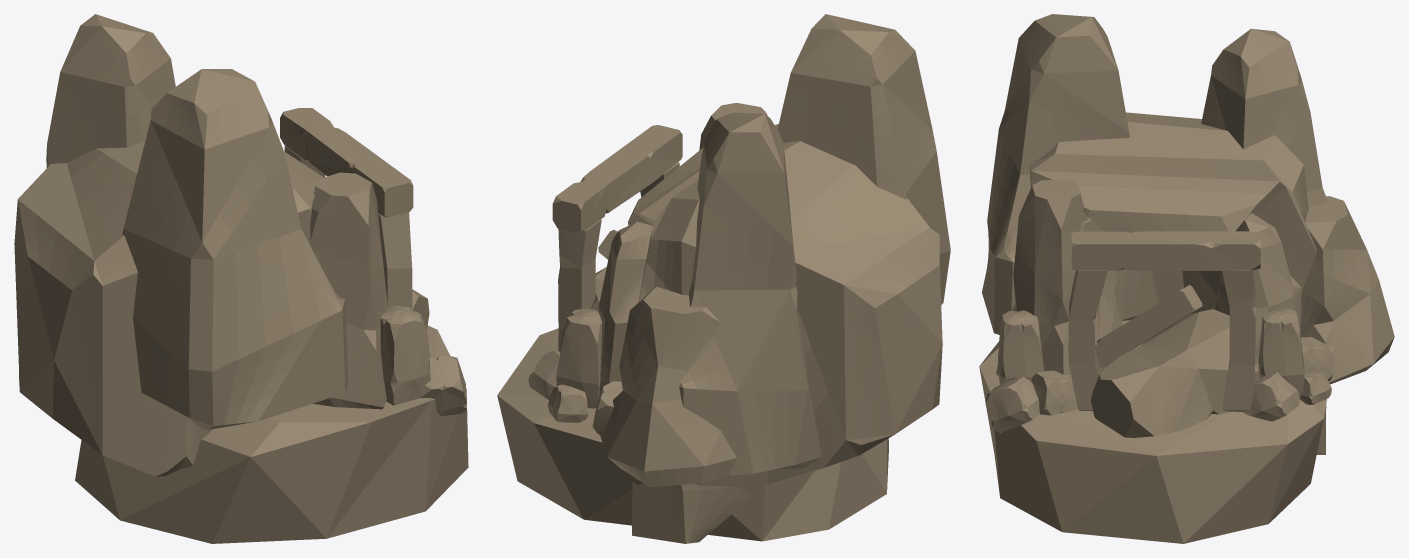
The model's file is stonemine2.fbx.
3 renders of one model, left to right at view 1: azimuth 30°, elevation 25°; view 2: azimuth 150°, elevation 25°; view 3: azimuth 270°, elevation 25°, orthographic. The views are drawn at different scales.
Visible parts, largest first — view 1: stone_mine_2; view 2: stone_mine_2; view 3: stone_mine_2.
Part boxes in pixels (x1=…): stone_mine_2: x1=14, y1=14, x2=468, y2=543; stone_mine_2: x1=497, y1=14, x2=950, y2=543; stone_mine_2: x1=979, y1=14, x2=1394, y2=543.
Size of the model in its own units: 55.21 by 58.48 by 54.4.
